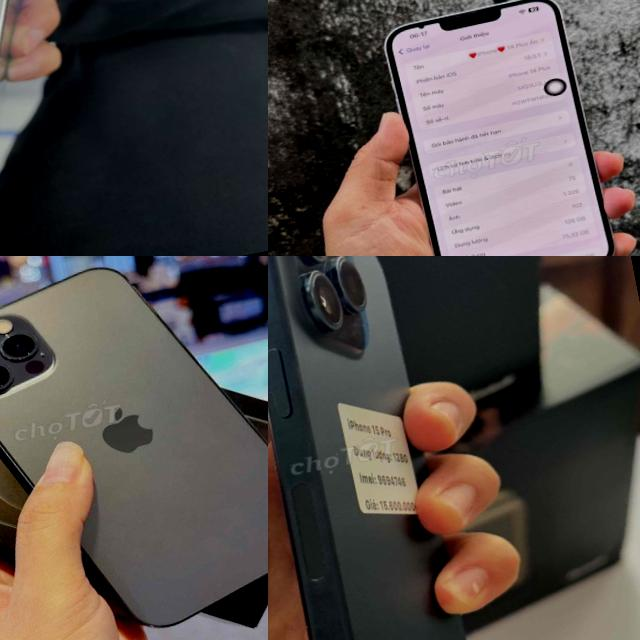screen_defect: (410, 15, 442, 41)
